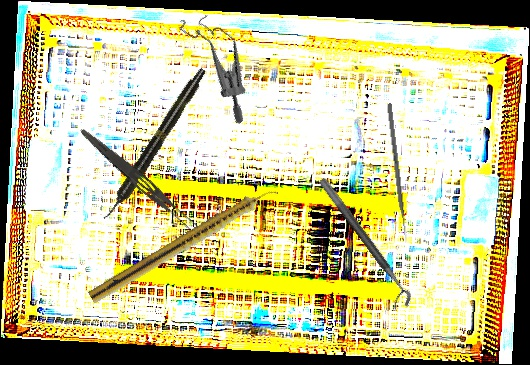Dressing Forceps: (74, 125, 201, 235)
Fixation Ring: (307, 176, 417, 315)
Handpiece: (87, 181, 281, 308), (99, 65, 210, 224)
Pusher: (386, 103, 409, 244)
Speculum: (151, 2, 282, 127)
